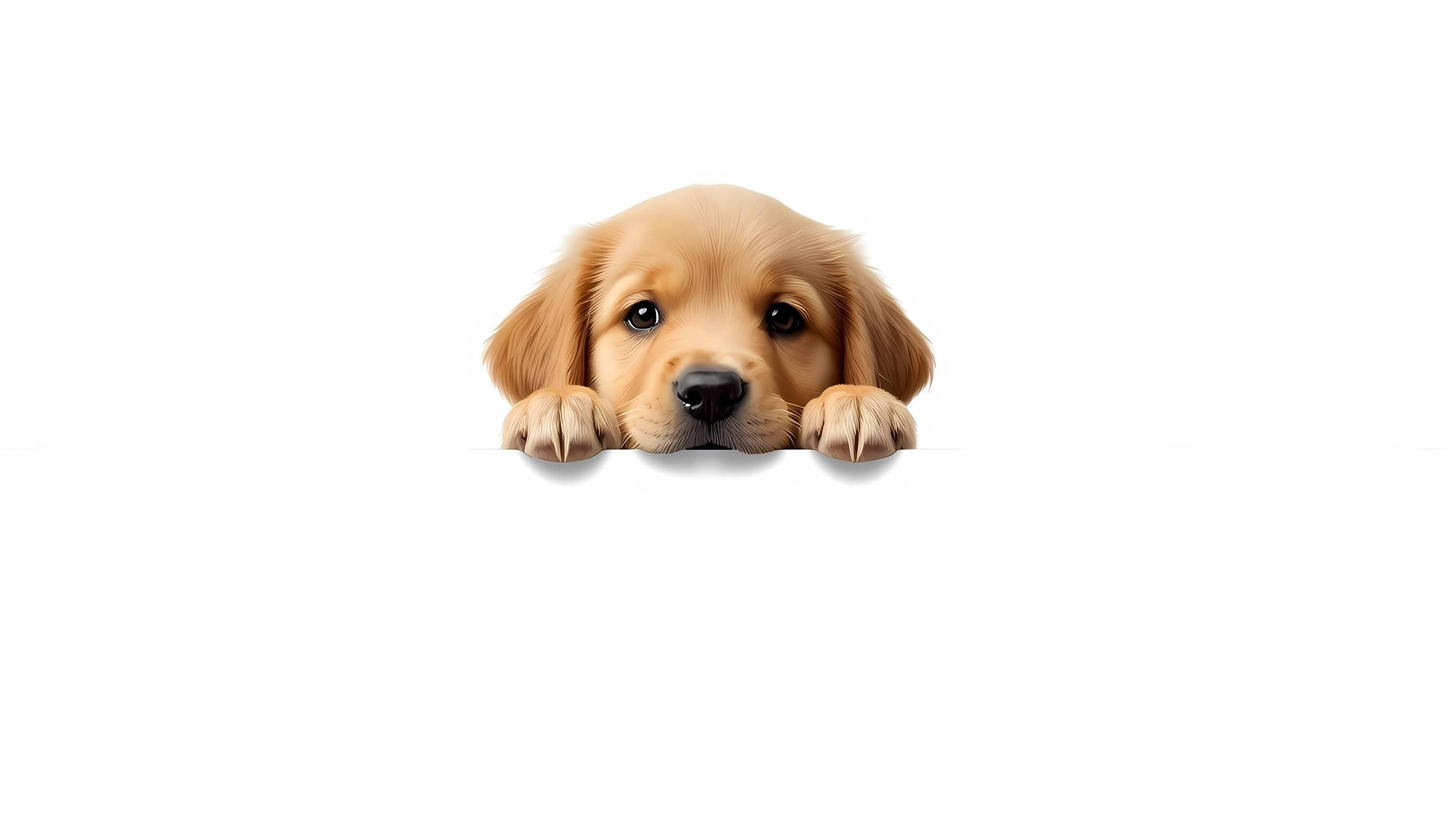puppy-dog: (480, 181, 936, 466)
